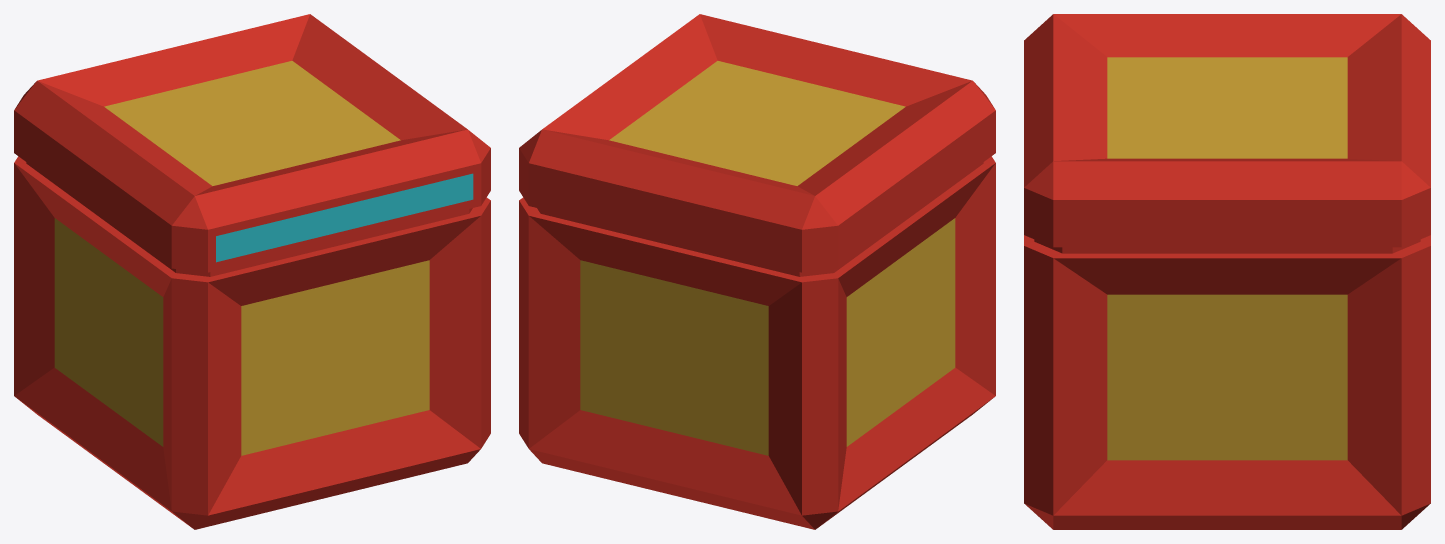
File: SciFiCrate.dae
3 renders of one model, left to right at view 1: azimuth 30°, elevation 25°; view 2: azimuth 150°, elevation 25°; view 3: azimuth 270°, elevation 25°, orthographic. The views are drawn at different scales.
Parts seen in each view (by area): view 1: Cube (×3); view 2: Cube (×2); view 3: Cube (×2).
Part boxes in pixels (box(x1,y1,x2,y2)): Cube (×3): box(14, 14, 490, 529); Cube (×2): box(519, 14, 995, 529); Cube (×2): box(1024, 14, 1430, 529).
Size of the model in its own units: 2 by 2 by 2.
